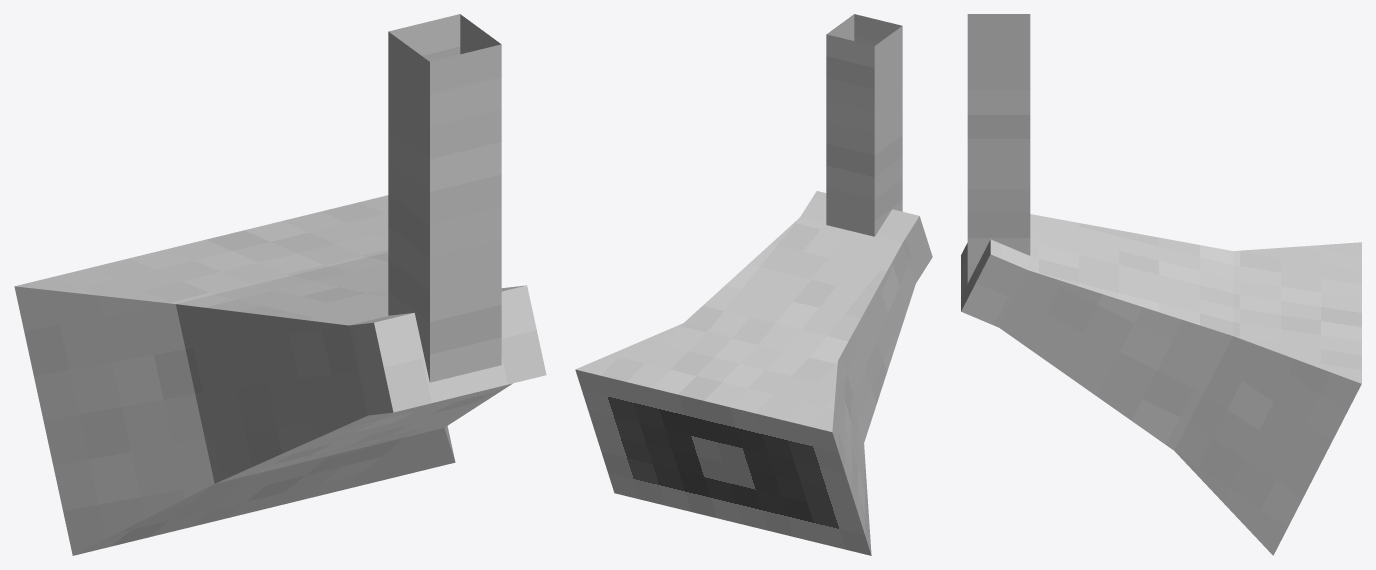
The model's file is speaker_top.obj.
The picture shows the model from 3 angles, left to right: view 1: azimuth 30°, elevation 25°; view 2: azimuth 150°, elevation 25°; view 3: azimuth 270°, elevation 25°; orthographic projection. The views are drawn at different scales.
Visible parts, largest first — view 1: mesh; view 2: mesh; view 3: mesh.
Part boxes in pixels (x1,y1,x2,y2): mesh: (14, 14, 546, 555); mesh: (575, 14, 932, 555); mesh: (961, 14, 1361, 555).
Size of the model in its own units: 0.5 by 0.7536 by 0.5978.
Materials: 1 (1 with a texture image).
